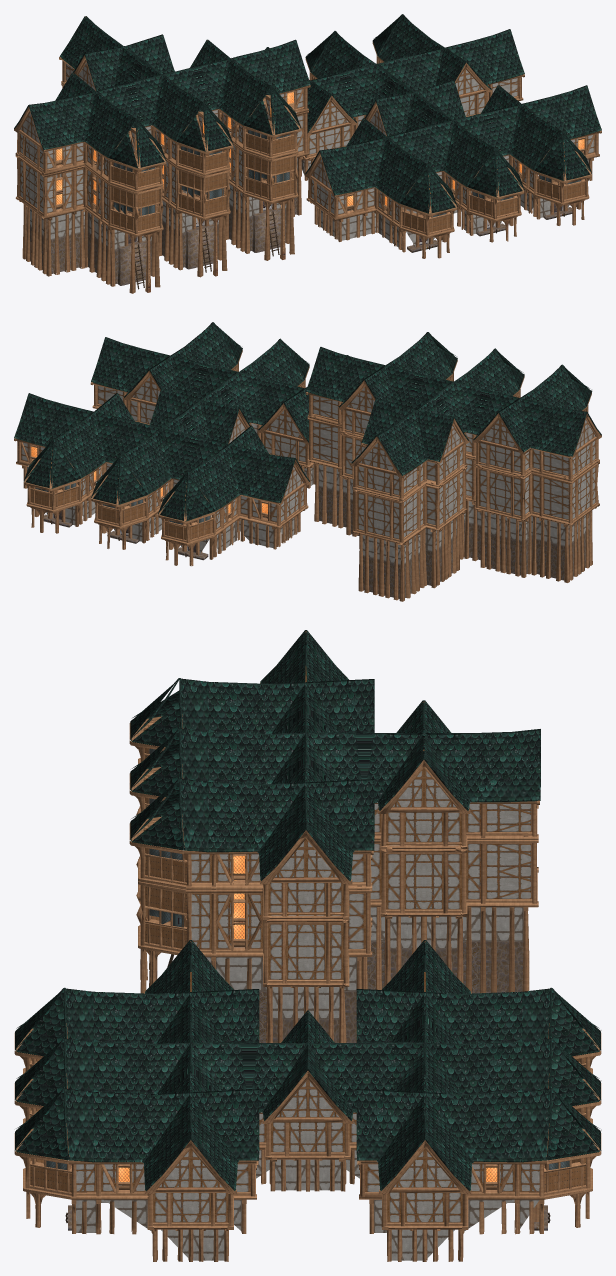
File: stone_manor.glb
3 views of the same model, one above another, from view 1: azimuth 30°, elevation 25°; view 2: azimuth 150°, elevation 25°; view 3: azimuth 270°, elevation 25° (orthographic). The views are drawn at different scales.
Parts seen in each view (by area): view 1: cop_04F002, cop_04F, cop_04A001, cop_04A002, cop_04H001, cop_04A, cop_04H002, cop_04C001, cop_04H, cop_04B001, cop_04N002, cop_04B002 (+4 smaller); view 2: cop_04F002, cop_04F, cop_04A001, cop_04A002, cop_04H001, cop_04H, cop_04H002, cop_04A, cop_04C001, cop_04B001, cop_04N002, cop_04B002 (+2 smaller); view 3: cop_04F002, cop_04F, cop_04A002, cop_04A001, cop_04H001, cop_04H002, cop_04H, cop_04A, cop_04B002, cop_04B001, cop_04C001, cop_04N002 (+1 smaller).
Boxes of the visible parts, <box> form: cop_04F002: <box>265,15,601,213</box>; cop_04F: <box>14,16,310,168</box>; cop_04A001: <box>15,83,308,293</box>; cop_04A002: <box>301,42,601,258</box>; cop_04H001: <box>19,99,303,230</box>; cop_04A: <box>14,16,310,192</box>; cop_04H002: <box>308,69,594,232</box>; cop_04C001: <box>26,180,297,285</box>; cop_04H: <box>19,62,303,186</box>; cop_04B001: <box>26,138,297,250</box>; cop_04N002: <box>266,14,591,211</box>; cop_04B002: <box>301,154,589,249</box>; cop_04F002: <box>14,323,309,521</box>; cop_04F: <box>306,333,601,475</box>; cop_04A001: <box>307,402,599,601</box>; cop_04A002: <box>14,350,315,566</box>; cop_04H001: <box>312,403,596,539</box>; cop_04H: <box>312,378,595,497</box>; cop_04H002: <box>21,376,306,539</box>; cop_04A: <box>306,360,601,500</box>; cop_04C001: <box>318,487,589,598</box>; cop_04B001: <box>318,464,589,565</box>; cop_04N002: <box>24,322,348,518</box>; cop_04B002: <box>27,461,313,554</box>; cop_04F002: <box>15,940,600,1191</box>; cop_04F: <box>130,630,540,881</box>; cop_04A002: <box>14,941,601,1261</box>; cop_04A001: <box>136,799,538,1042</box>; cop_04H001: <box>144,843,532,979</box>; cop_04H002: <box>30,972,585,1222</box>; cop_04H: <box>144,666,532,915</box>; cop_04A: <box>129,631,539,918</box>; cop_04B002: <box>76,1150,539,1260</box>; cop_04B001: <box>206,907,523,1019</box>; cop_04C001: <box>259,942,523,1042</box>; cop_04N002: <box>14,955,601,1162</box>.
Size of the model in its own units: 56.9 by 17.4 by 36.49.
Materials: 12 (11 with a texture image).
